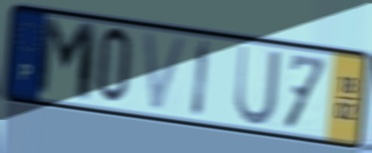0: (94, 24, 136, 112)
7: (283, 51, 328, 132)
I: (189, 36, 213, 122)
M: (34, 14, 100, 107)
U: (233, 42, 283, 128)
V: (140, 29, 191, 115)
